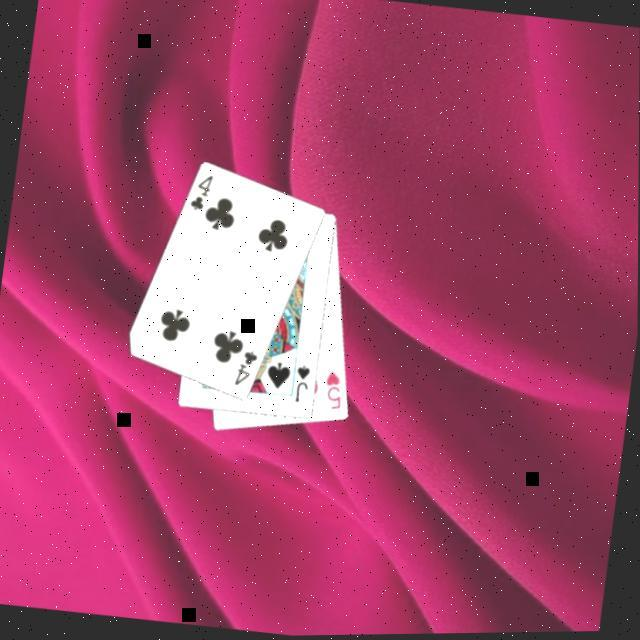4C: (229, 348, 260, 393), (184, 172, 215, 217)
5H: (317, 369, 346, 416)
JS: (288, 363, 312, 408)
